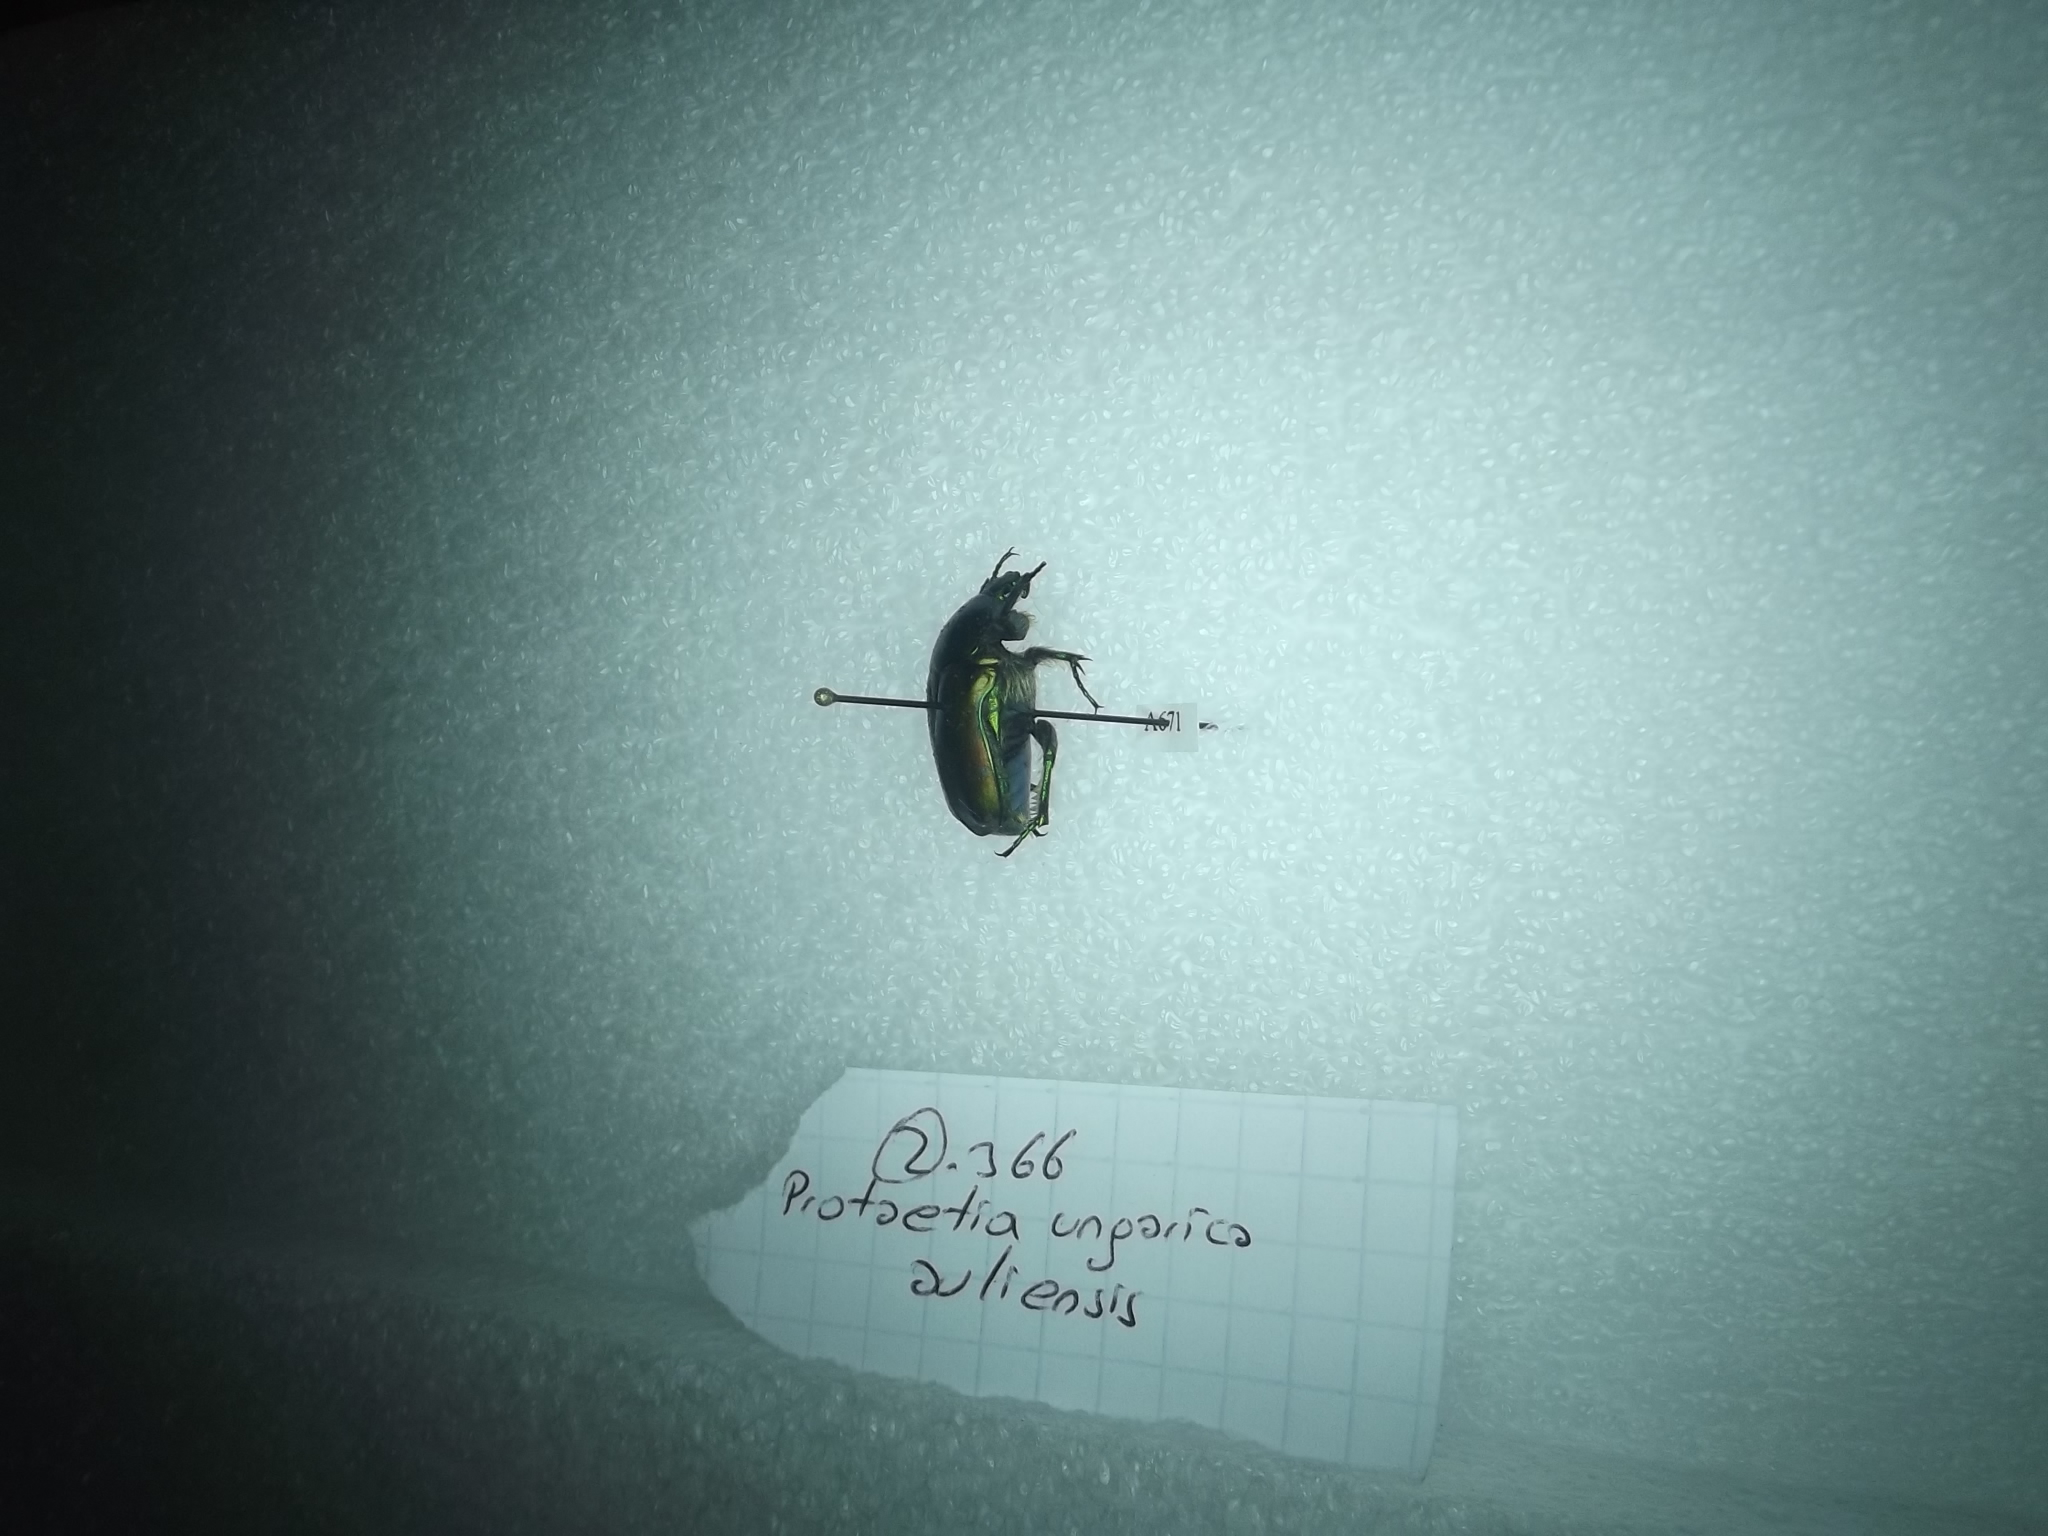Protaetia_ungarica: (914, 542, 1082, 862)
